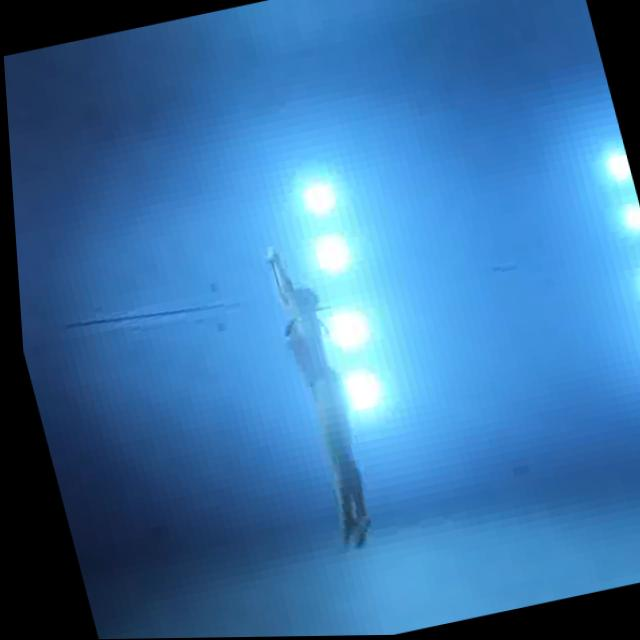human: (246, 222, 385, 564)
